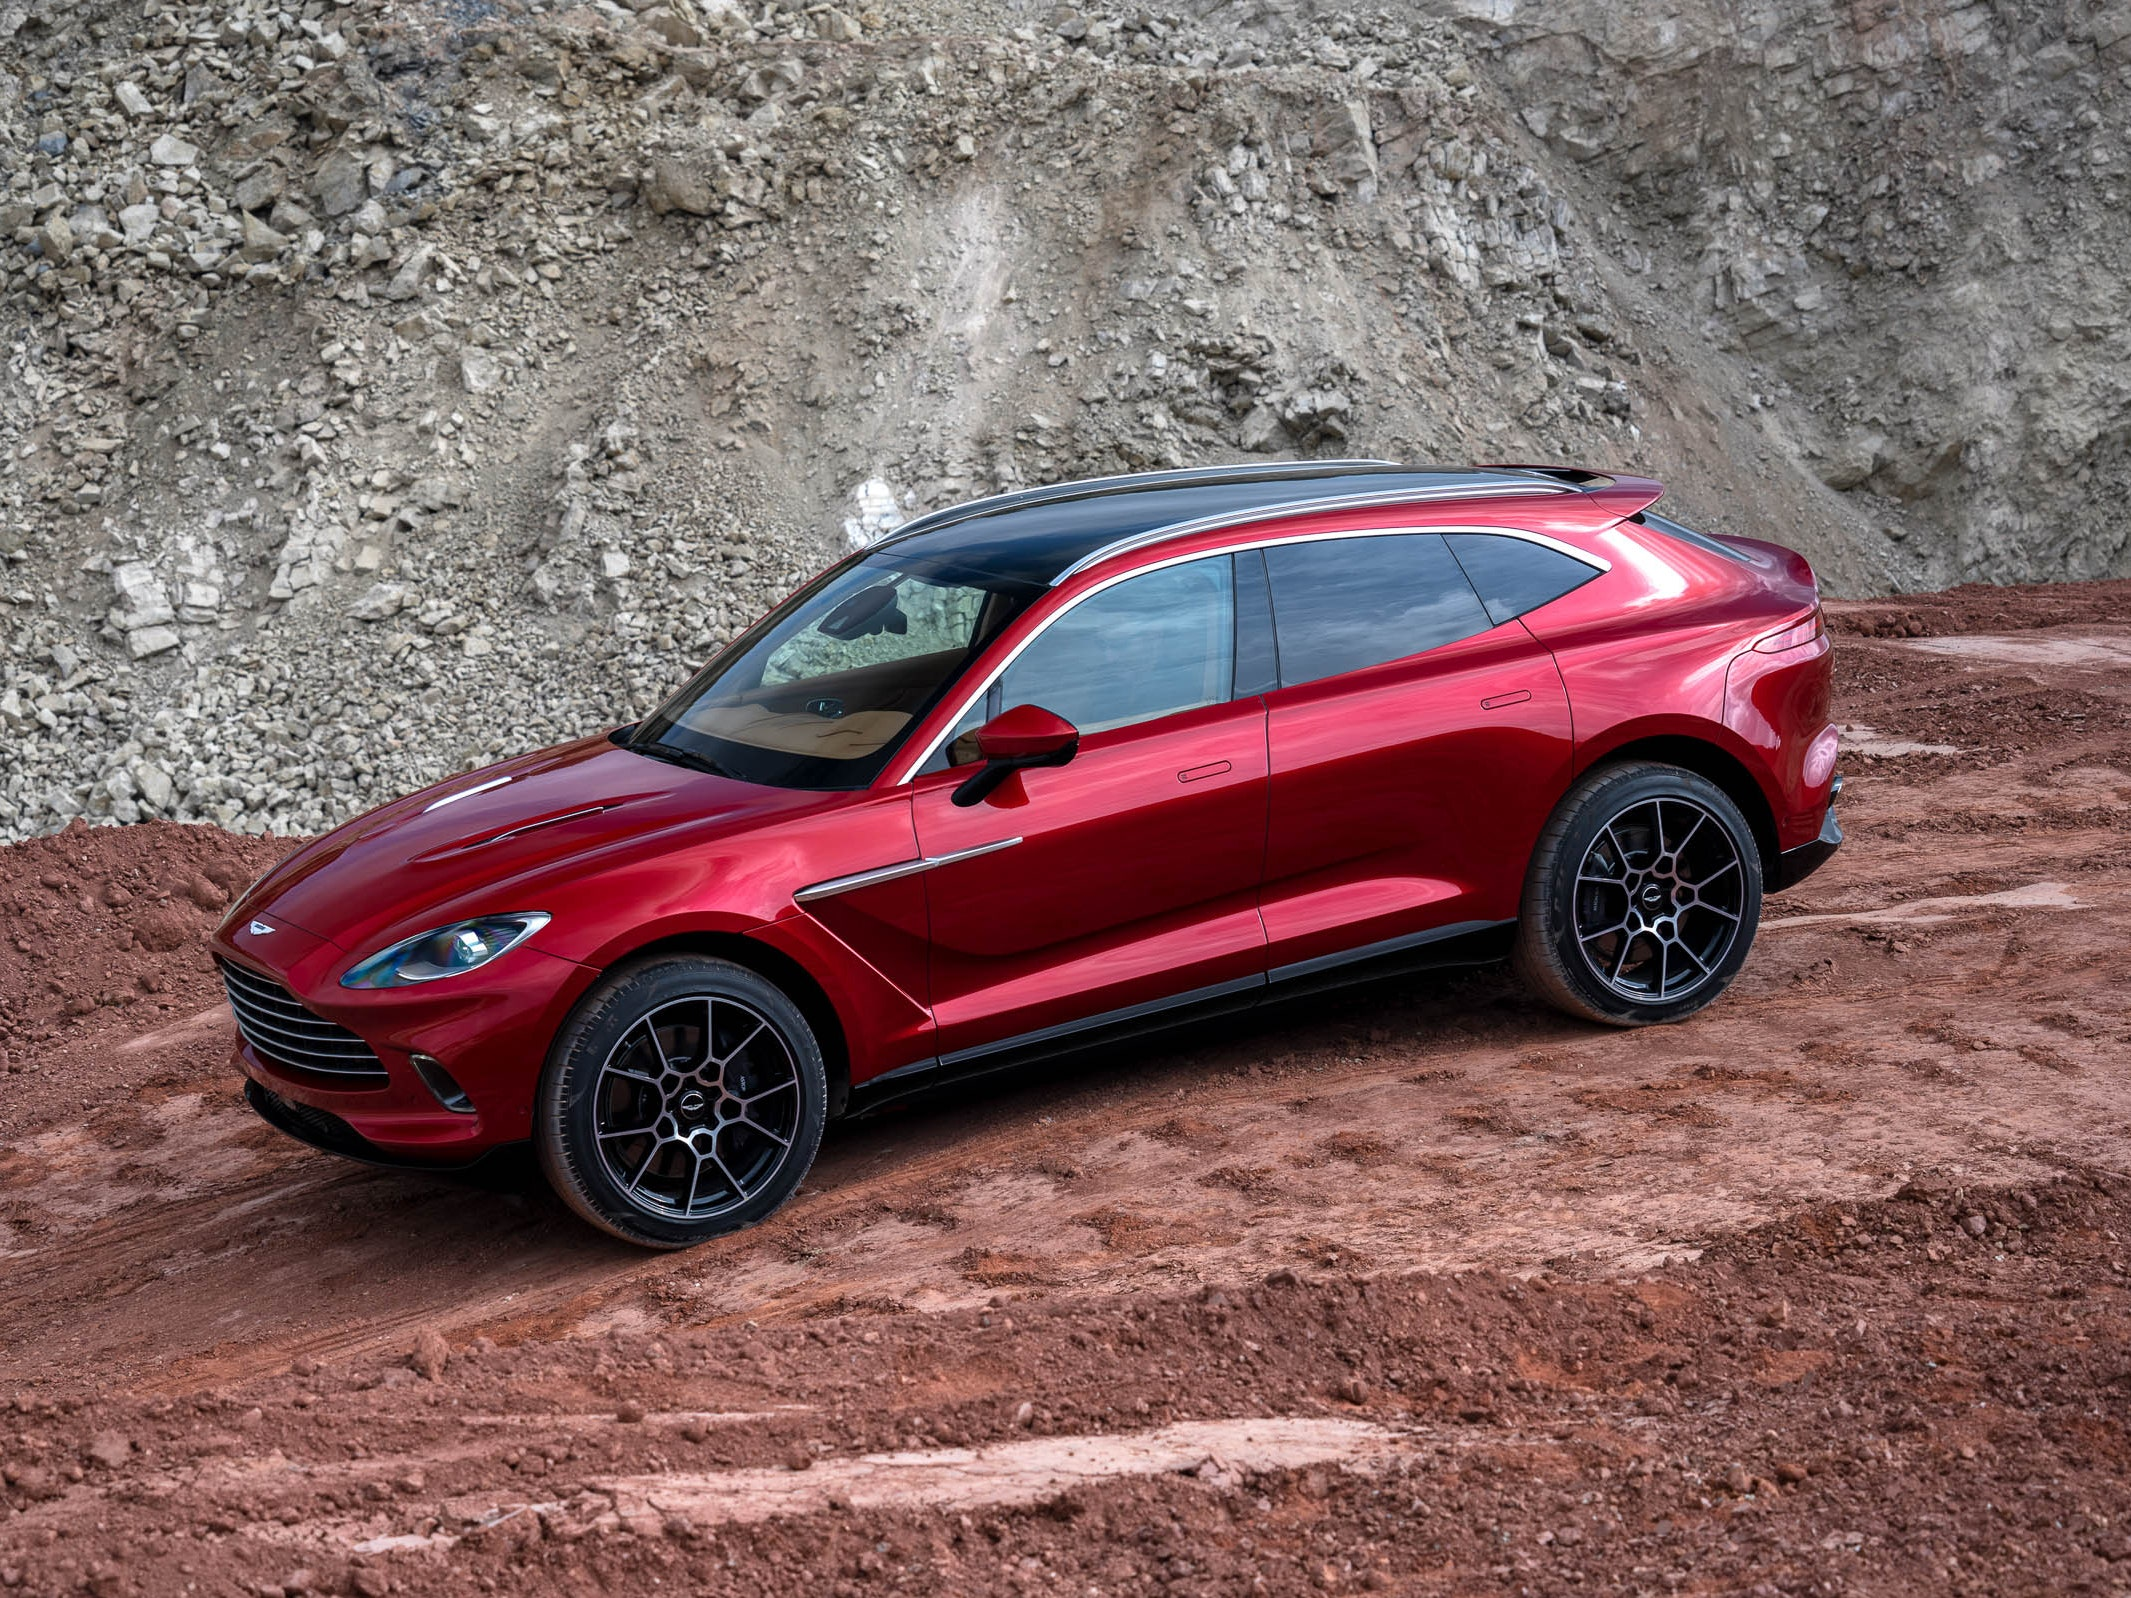car: (211, 463, 1842, 1247)
